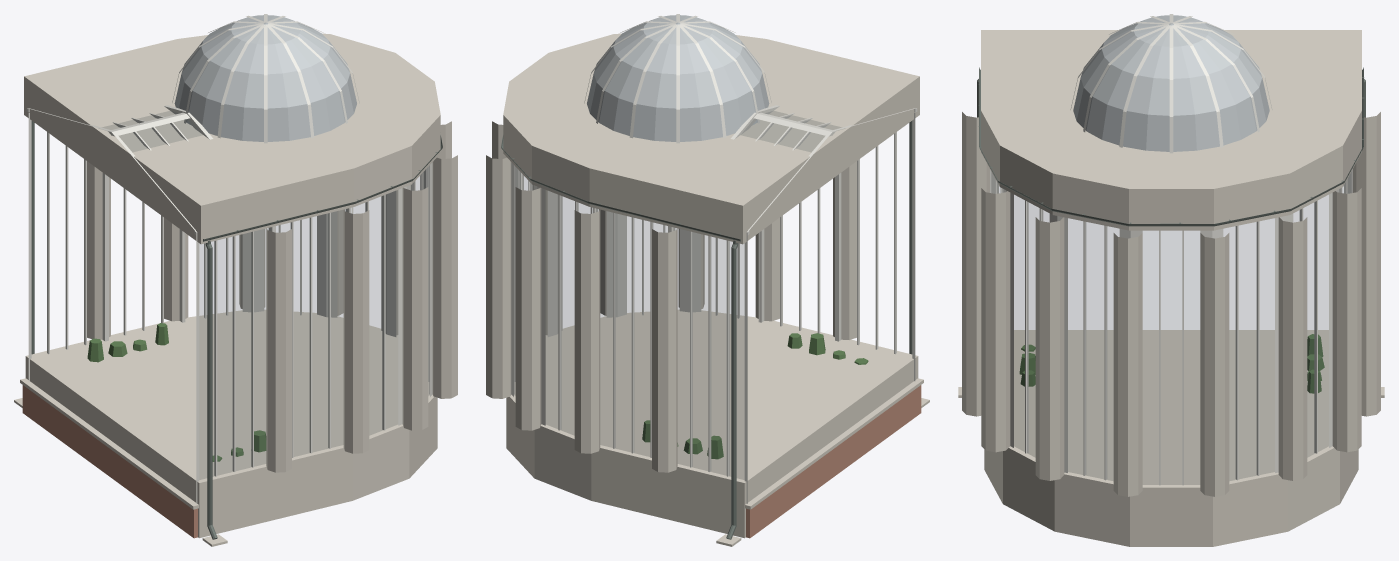
File: pullman_glasshouse_1800_calumet_east_end__as_standing_1904.glb
3 views of the same model, side by side, from view 1: azimuth 30°, elevation 25°; view 2: azimuth 150°, elevation 25°; view 3: azimuth 270°, elevation 25° (orthographic). The views are drawn at different scales.
Visible parts, largest first — view 1: pullman_glasshouse_1800_calumet_east_end__as_standing_1904; view 2: pullman_glasshouse_1800_calumet_east_end__as_standing_1904; view 3: pullman_glasshouse_1800_calumet_east_end__as_standing_1904.
Part boxes in pixels (x1,y1,x2,y2): pullman_glasshouse_1800_calumet_east_end__as_standing_1904: [14, 14, 457, 546]; pullman_glasshouse_1800_calumet_east_end__as_standing_1904: [486, 14, 929, 546]; pullman_glasshouse_1800_calumet_east_end__as_standing_1904: [958, 14, 1384, 546].
Size of the model in its own units: 6.14 by 7.5 by 6.5.
